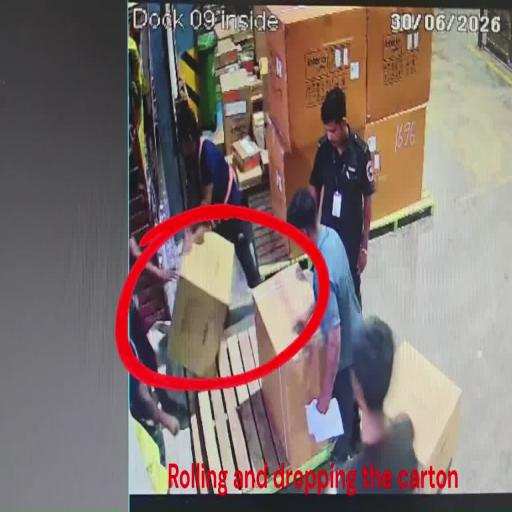carton: (252, 262, 337, 468), (252, 3, 368, 150), (381, 339, 463, 492), (166, 228, 236, 381), (365, 6, 435, 127), (361, 105, 428, 230), (263, 110, 321, 231), (224, 102, 248, 150), (232, 134, 262, 172), (240, 163, 262, 190)
forklift: (127, 0, 195, 242)
pallet: (186, 325, 276, 498), (238, 397, 336, 499), (244, 185, 314, 284), (362, 197, 434, 241)
person: (285, 186, 367, 460), (332, 319, 424, 512), (306, 84, 376, 307), (190, 117, 262, 289), (130, 295, 181, 494), (130, 220, 178, 378)
